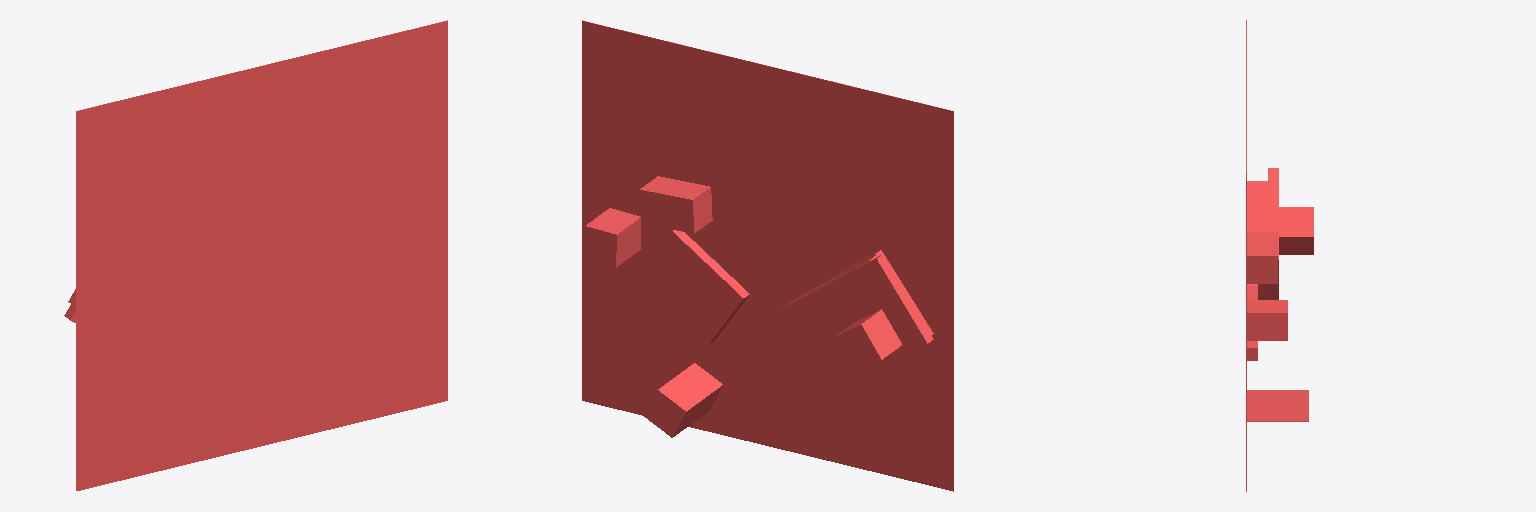
The robot description file, URDF, robot "cube.urdf":
<?xml version="1.0" ?>
<robot name="cube.urdf">
  <link concave="yes" name="baseLink">
    <contact>
      <lateral_friction value="0.5"/>
      <rolling_friction value="0.0"/>
      <contact_cfm value="0.0"/>
      <contact_erp value="1.0"/>
    </contact>
    <inertial>
      <origin rpy="0 0 0" xyz="0.07 0.05 0.03"/>
       <mass value="0"/>
       <inertia ixx="1" ixy="0" ixz="0" iyy="1" iyz="0" izz="1"/>
    </inertial>
    <visual>
      <origin rpy="0 0 0" xyz="0 0 0"/>
      <geometry>
        <mesh filename="0052.obj" scale=".1 .1 .1"/>
      </geometry>
       <material name="red">
        <color rgba="1 0.4 0.4 1"/>
      </material>
    </visual>
    <collision concave="yes">
      <origin rpy="0 0 0" xyz="0 0 0"/>
      <geometry>
	 	<mesh filename="0052.obj" scale=".1 .1 .1"/>
      </geometry>
    </collision>
  </link>
</robot>

--- Render facts (derived) ---
The picture shows the robot from 3 angles, left to right: view 1: azimuth 30°, elevation 25°; view 2: azimuth 150°, elevation 25°; view 3: azimuth 270°, elevation 25°; orthographic projection.
Robot: cube.urdf — 1 links, 0 joints (none); root link baseLink; default pose: every joint at zero.
Links seen in each view (by area): view 1: baseLink; view 2: baseLink; view 3: baseLink.
Boxes of the visible links, x1,y1,x2,y2 form: baseLink: (64,20,447,490); baseLink: (582,20,953,491); baseLink: (1246,20,1313,491).
Size in the robot's own frame: 0.5255 by 0.0983 by 0.5138 metres.
1 mesh visuals loaded from 1 distinct referenced files (1 OBJ).